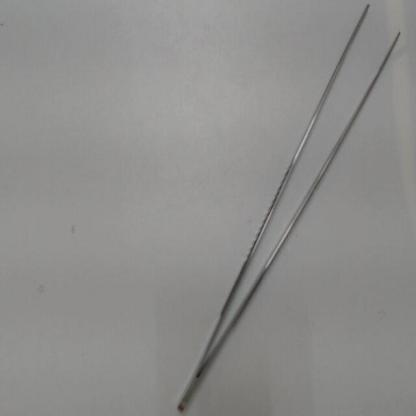DeBakey Dissector: (160, 6, 410, 411)
